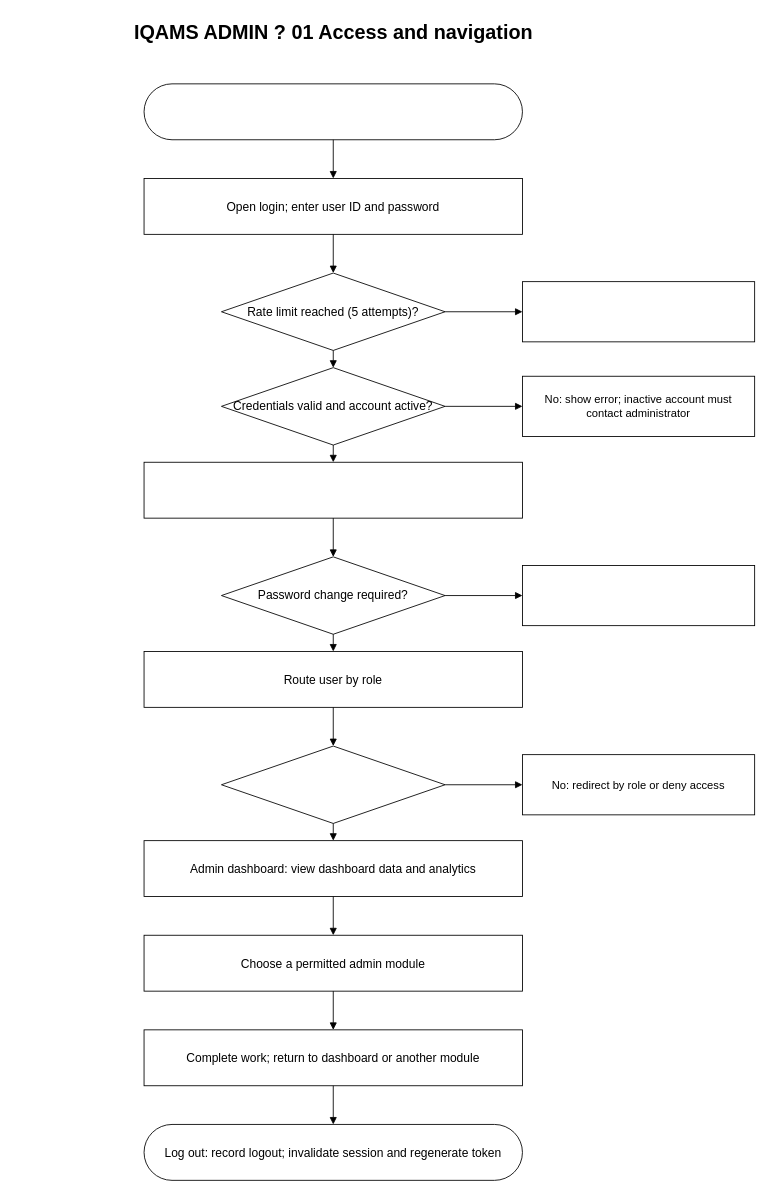
The diagram is 770 pixels wide and 1195 high, and some of its shapes have lost their labels. The shapes that lost their labels are listed below. From the top down, each one's box as (x1, y1, x2, y2) in pixels, then its label:
(143, 83, 522, 140): Start
(522, 281, 755, 342): Yes: wait until lockout expires, then retry
(143, 461, 522, 518): Regenerate session; record successful login
(522, 565, 755, 626): Yes: change password before continuing
(221, 745, 445, 823): Admin role and view-reports permission?
